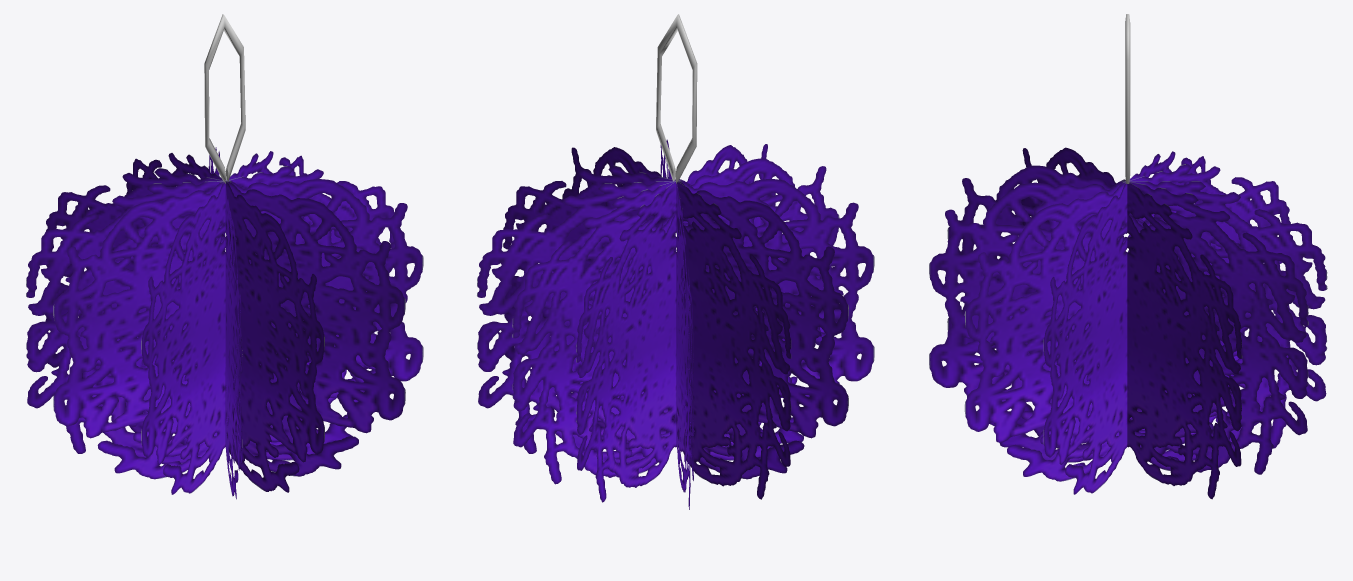
The model's file is Loofah_C.FBX.
3 views of the same model, side by side, from view 1: azimuth 30°, elevation 25°; view 2: azimuth 150°, elevation 25°; view 3: azimuth 270°, elevation 25° (orthographic).
Parts seen in each view (by area): view 1: Loofah; view 2: Loofah; view 3: Loofah.
Boxes of the visible parts, <box> form: Loofah: <box>26,14,423,499</box>; Loofah: <box>477,14,874,509</box>; Loofah: <box>929,14,1327,499</box>.
Size of the model in its own units: 30 by 36.22 by 30.
